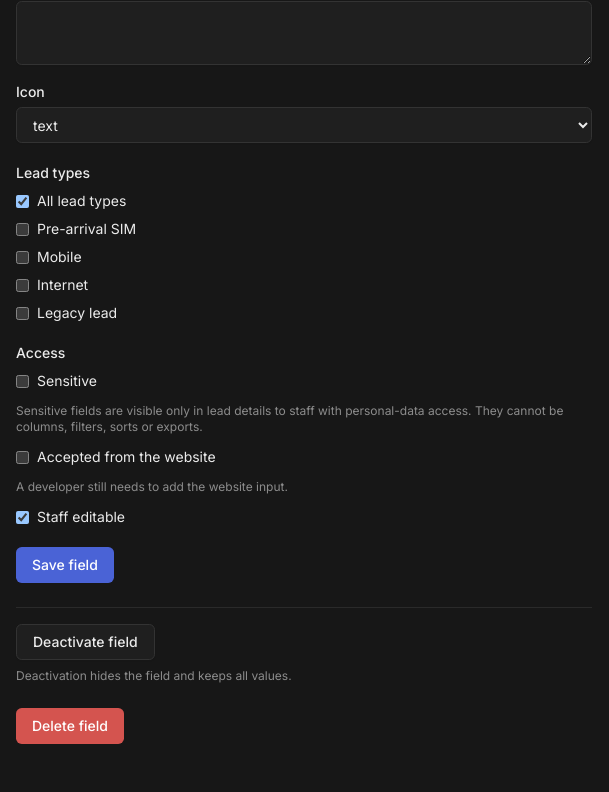
Test: shows the refusal count and preserves the deactivation action
(page scrolled)
Click the button "Delete field".
click(70, 726)  # box [16,708,124,744]
(page scrolled)
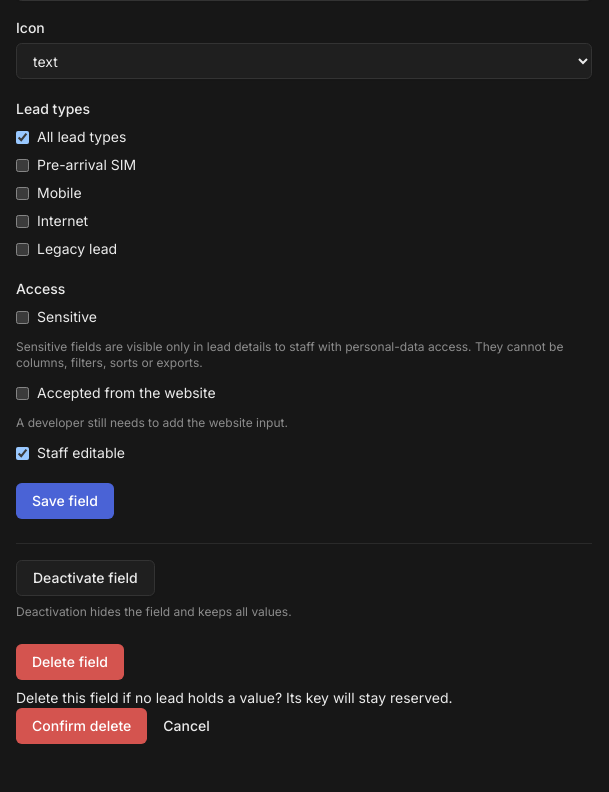
Click the button "Confirm delete".
click(82, 726)  # box [16,708,147,744]
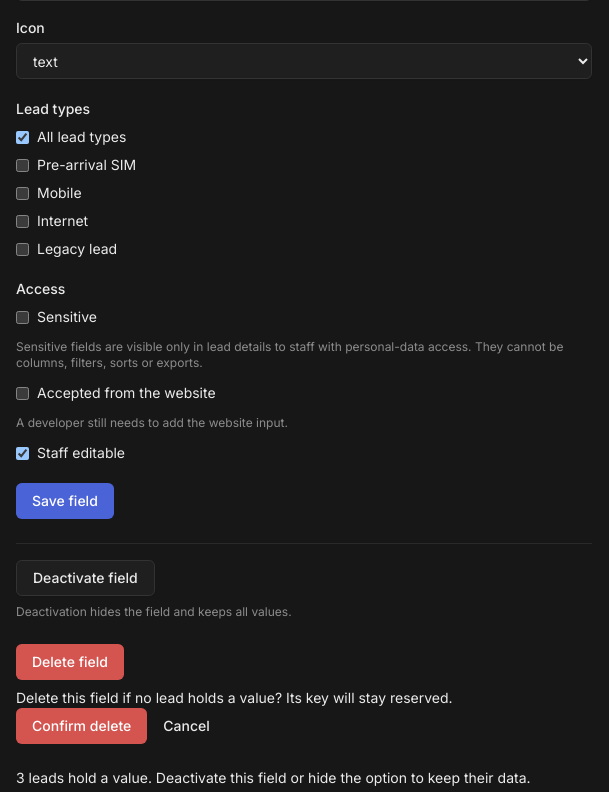
Expected: the button "Deactivate field" is shown, [16,560,155,596]
Expected: the text "3 leads hold a value" is shown, [16,769,530,786]
